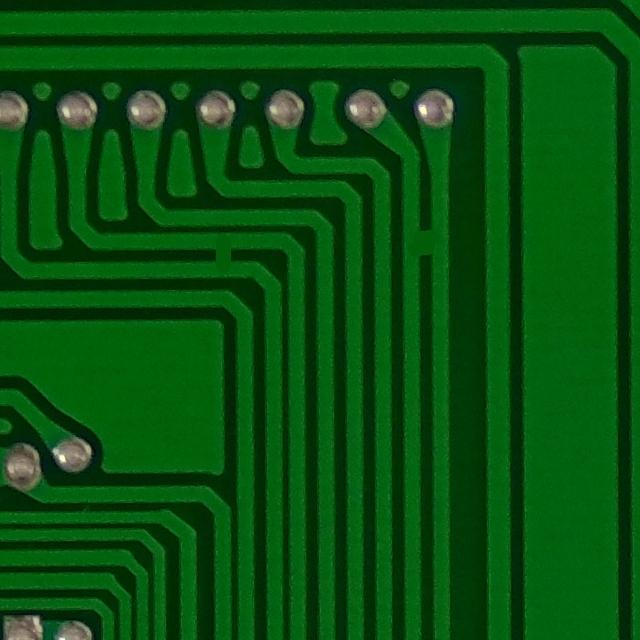short: (396, 219, 459, 267), (196, 231, 251, 282)
